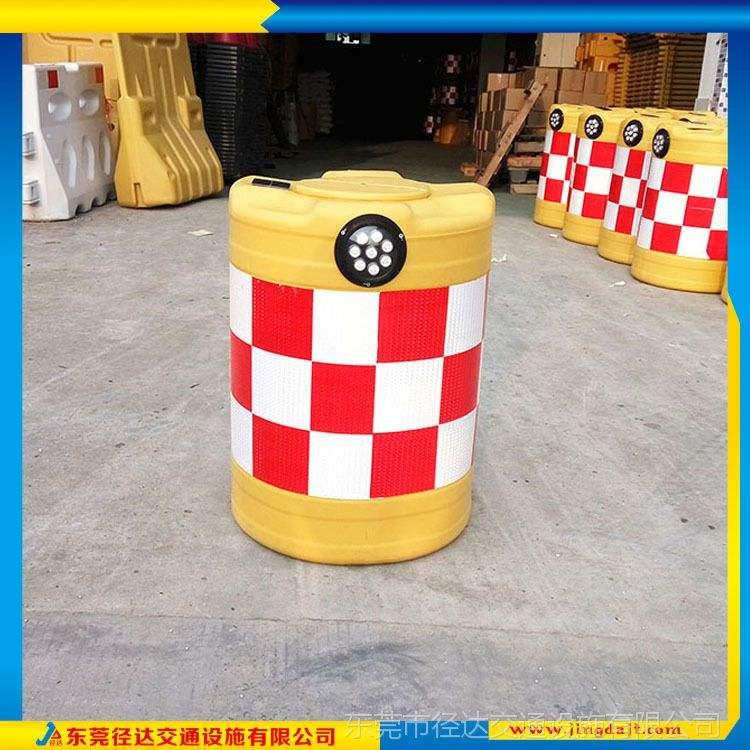sign: (207, 153, 501, 577)
